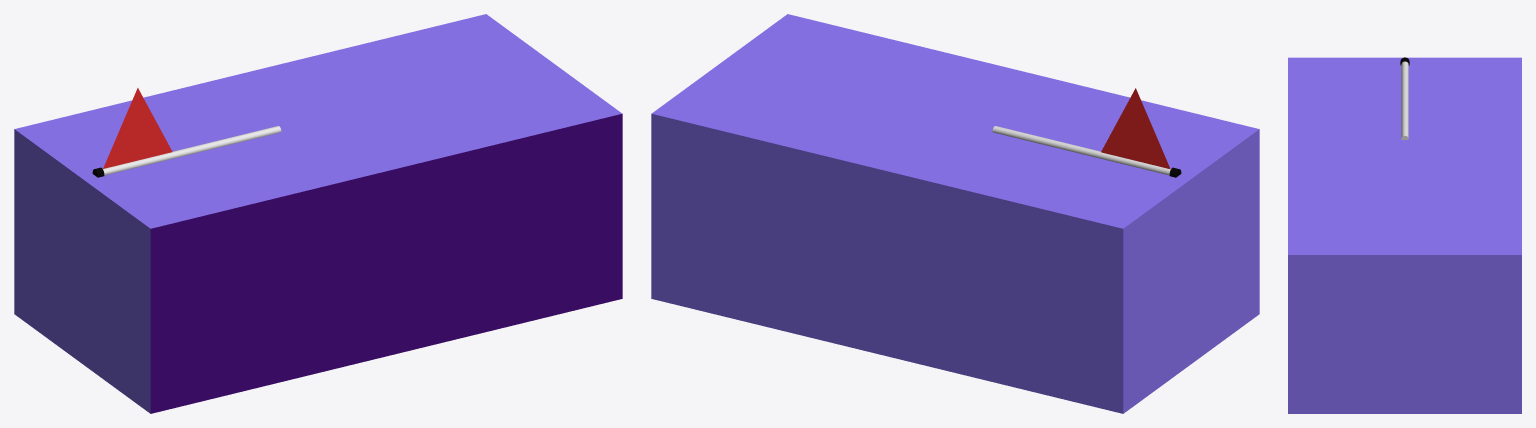
The model's file is checkpoint.fbx.
3 renders of one model, left to right at view 1: azimuth 30°, elevation 25°; view 2: azimuth 150°, elevation 25°; view 3: azimuth 270°, elevation 25°, orthographic. The views are drawn at different scales.
Visible parts, largest first — view 1: Cube, Bayrak, Direk; view 2: Cube, Bayrak, Direk; view 3: Cube, Direk.
Part boxes in pixels (x1,y1,x2,y2): Cube: [14, 14, 622, 413]; Bayrak: [103, 88, 172, 168]; Direk: [103, 126, 281, 175]; Cube: [651, 14, 1259, 413]; Bayrak: [1101, 88, 1170, 169]; Direk: [992, 126, 1170, 175]; Cube: [1288, 57, 1521, 413]; Direk: [1401, 61, 1408, 139].
Bounding box in the file's own units: 1600 × 852 × 800.
